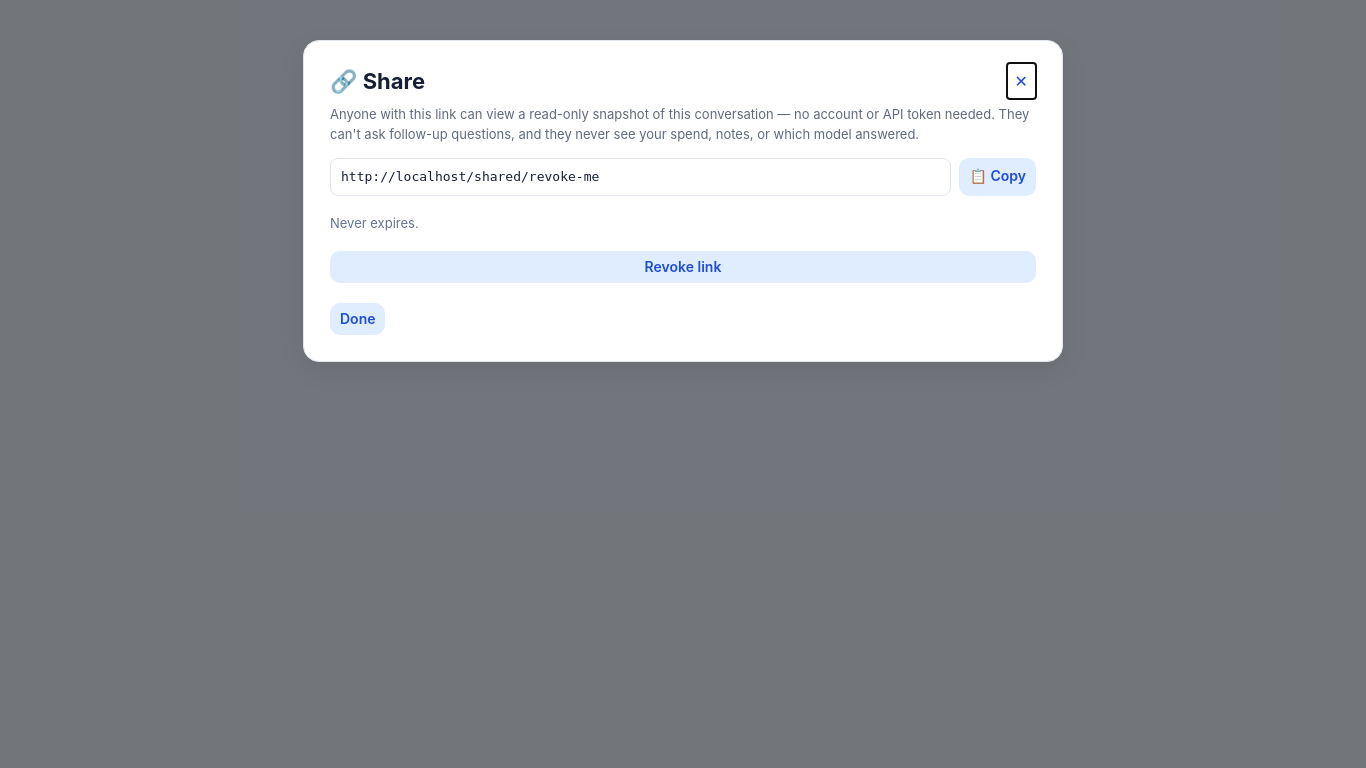
it: Share › revokes the link and falls back to the create-link view
Expected: the field named "Share link" is shown, [330,158,951,196]
What coordinates should you click on to do the following:
click the button "Revoke link"
I would click on:
 (683, 267)
Its box is [330,251,1036,283].
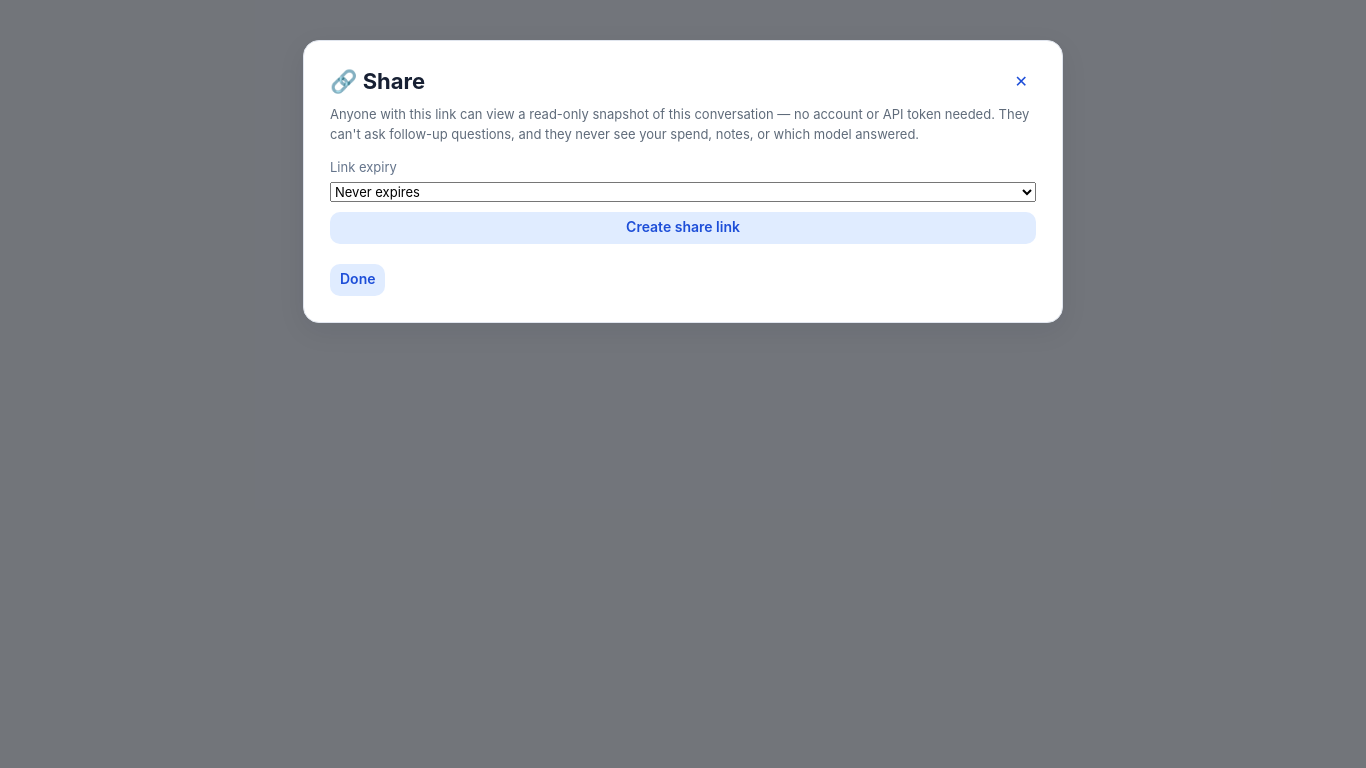
Now the button "Create share link" is shown, box [330,212,1036,244]
